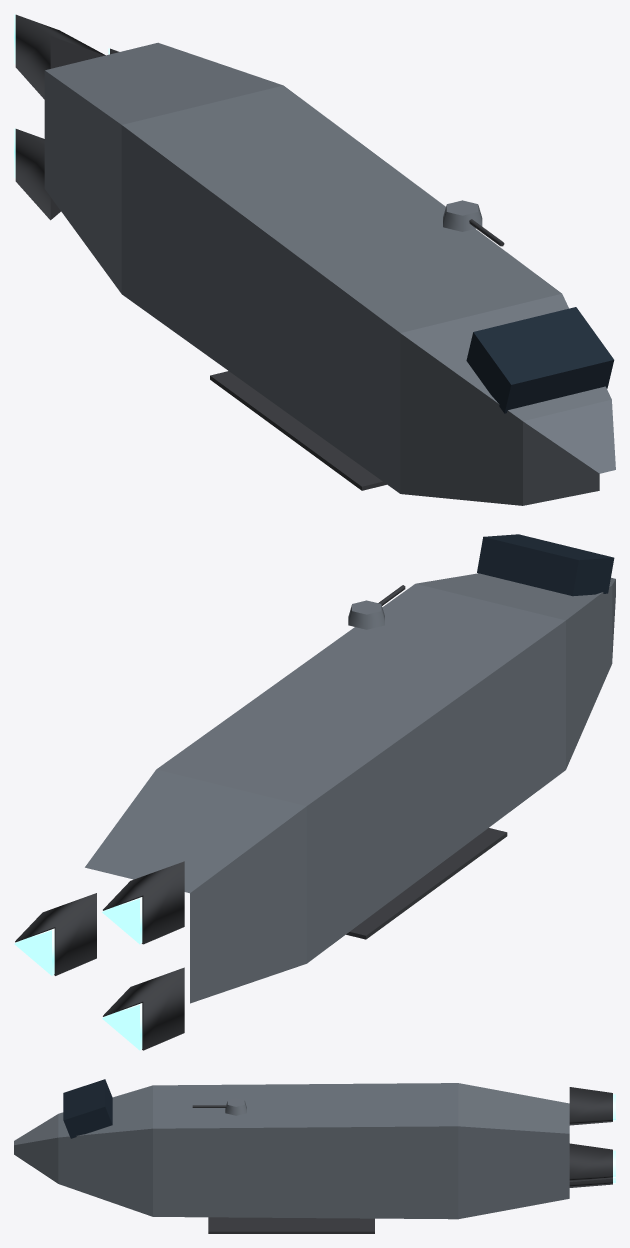
File: space_ship_transport_mk3_lod2.glb
3 views of the same model, one above another, from view 1: azimuth 30°, elevation 25°; view 2: azimuth 150°, elevation 25°; view 3: azimuth 270°, elevation 25° (orthographic). The views are drawn at different scales.
Visible parts, largest first — view 1: body, hangar_door, engine_1, engine_2, turret_0; view 2: body, engine_1, engine_2, engine_0, hangar_door, turret_0; view 3: body, hangar_door, engine_1, engine_0, turret_0, engine_2.
Part boxes in pixels (left/top/right/bottom): body: left=44, top=42, right=615, bottom=505; hangar_door: left=210, top=371, right=386, bottom=490; engine_1: left=14, top=14, right=105, bottom=99; engine_2: left=14, top=128, right=60, bottom=220; turret_0: left=443, top=200, right=504, bottom=246; body: left=85, top=534, right=615, bottom=1003; engine_1: left=102, top=861, right=184, bottom=944; engine_2: left=102, top=967, right=184, bottom=1050; engine_0: left=14, top=893, right=96, bottom=975; hangar_door: left=346, top=828, right=507, bottom=939; turret_0: left=348, top=585, right=405, bottom=629; body: left=14, top=1079, right=569, bottom=1219; hangar_door: left=208, top=1217, right=374, bottom=1233; engine_1: left=569, top=1087, right=615, bottom=1125; engine_0: left=569, top=1143, right=615, bottom=1181; turret_0: left=192, top=1098, right=246, bottom=1115; engine_2: left=569, top=1178, right=615, bottom=1187.
Size of the model in its own units: 4.65 by 5.68 by 24.19.
